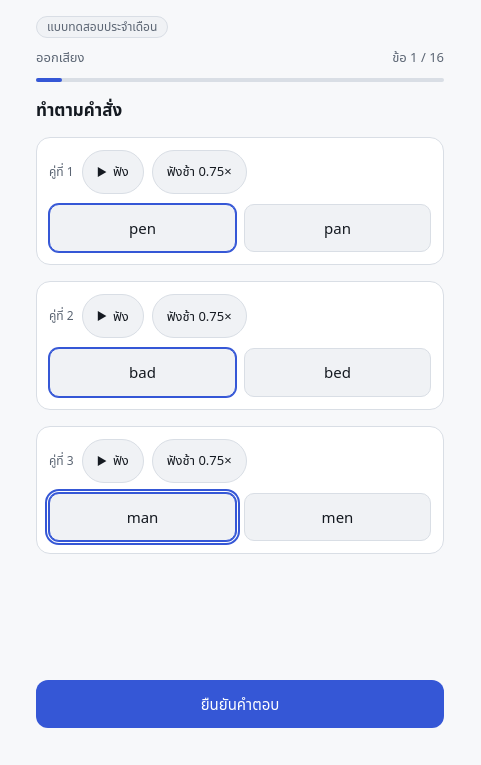
Test: CheckpointPlayer › after a confirmed answer: only 'บันทึกคำตอบแล้ว' and a single ถัดไป; no right/wrong words, no correct answer, no retry
The width and height of the screenshot is (481, 765).
Earlier steps of the test are not shown.
Press the mouse on the button "ยืนยันคำตอบ" at (240, 704), box [36,680,444,728]
Press the mouse on the button "ยืนยันคำตอบ" at (240, 704), box [36,680,444,728]
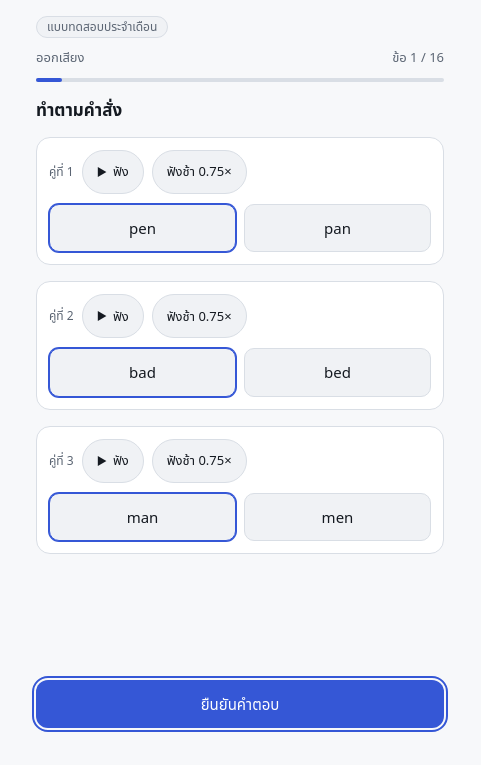
Click the button "ยืนยันคำตอบ" at (240, 704), box [36,680,444,728]
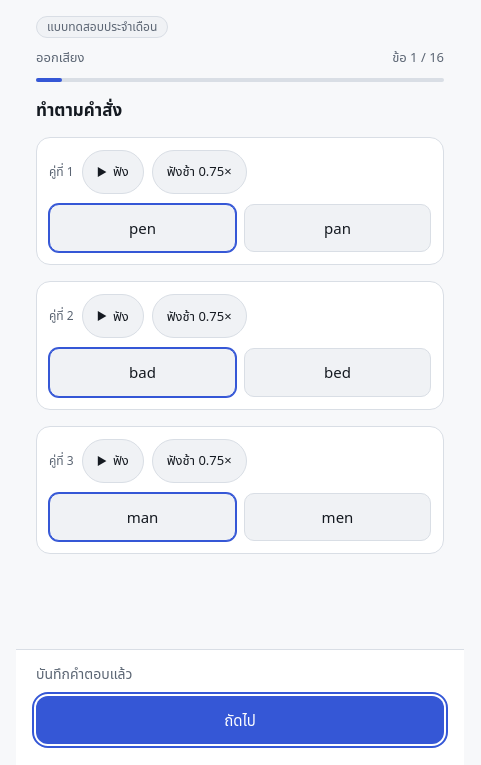
Expected: the number of buttons "ถัดไป" is 1, [36,696,444,744]
Result: the message reads "บันทึกคำตอบแล้ว" at [36,664,132,682]
Result: the button "ยืนยันคำตอบ" is gone
